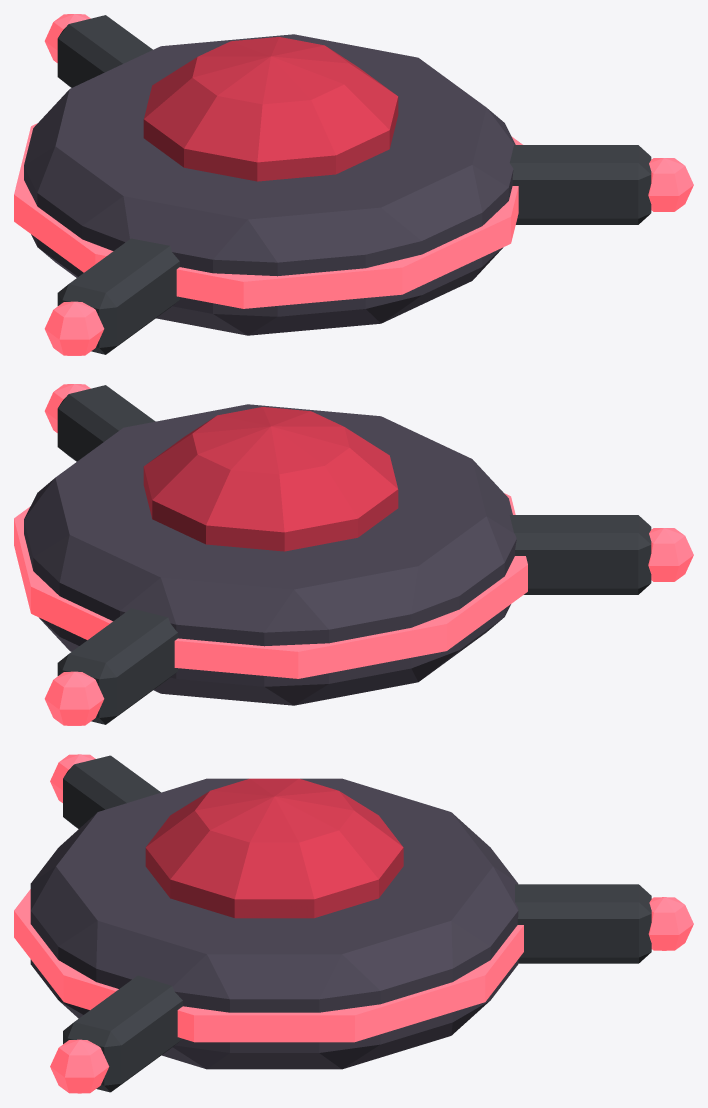
The model's file is enemy_gunner.glb.
3 renders of one model, top to bottom at view 1: azimuth 30°, elevation 25°; view 2: azimuth 150°, elevation 25°; view 3: azimuth 270°, elevation 25°, orthographic.
Visible parts, largest first — view 1: enemy_gunner; view 2: enemy_gunner; view 3: enemy_gunner.
Boxes of the visible parts, x1,y1,x2,y2 form: enemy_gunner: [14, 14, 693, 355]; enemy_gunner: [14, 384, 693, 725]; enemy_gunner: [14, 754, 693, 1093].
Size of the model in its own units: 1.71 by 0.482 by 1.61.
